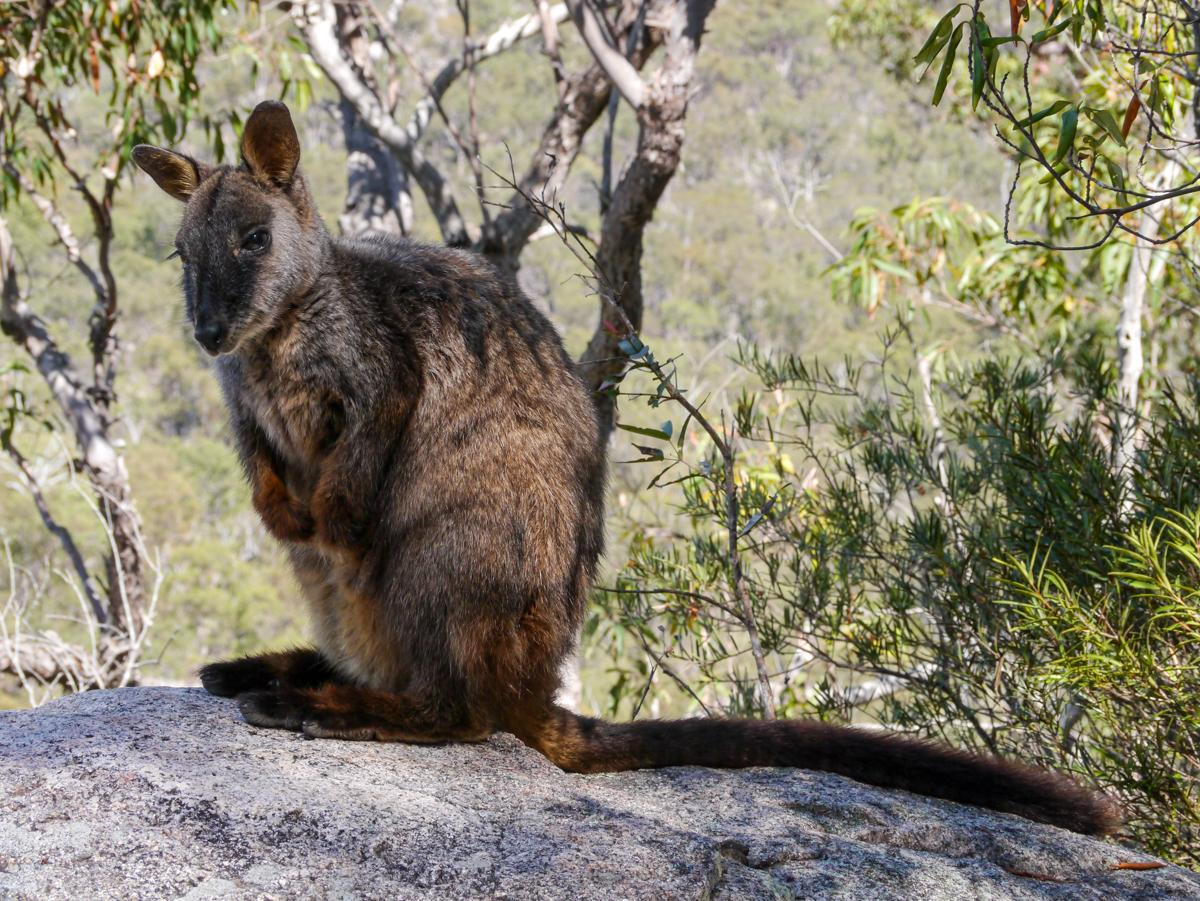Brush-tailed rock-wallaby: (129, 95, 1118, 842)
